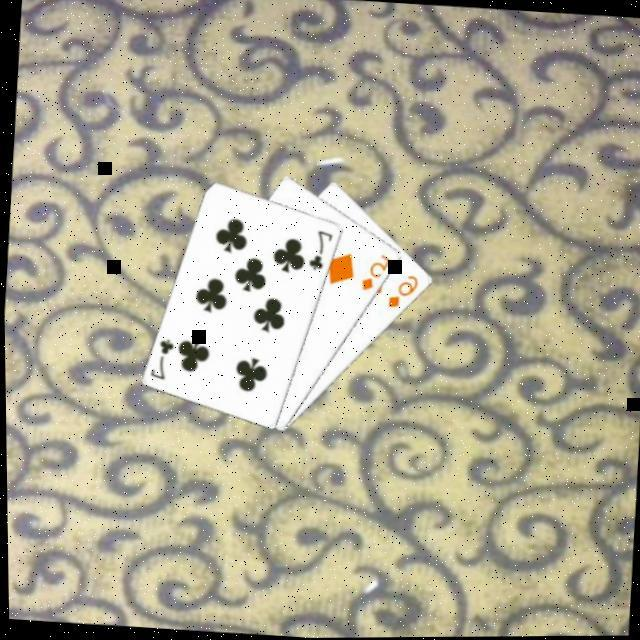5D: (355, 248, 393, 293)
6D: (382, 269, 419, 311)
7C: (144, 332, 176, 381), (303, 224, 335, 272)
